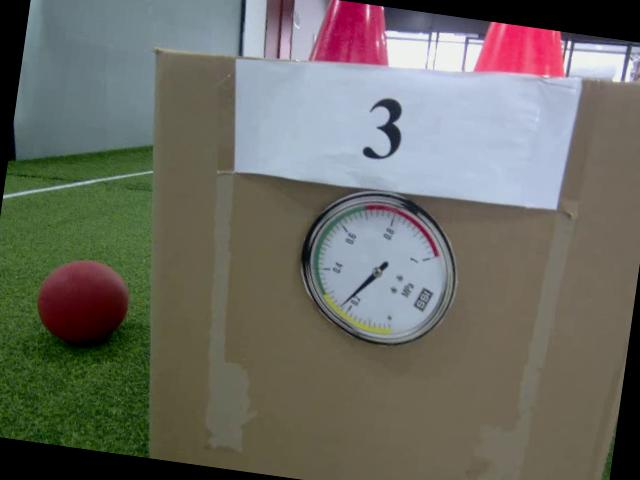3: (356, 94, 415, 168)
Dashboard: (288, 182, 466, 353)
orange_barrel: (471, 20, 574, 80)
red_ball: (32, 257, 132, 350)
red_barrel: (309, 0, 399, 68)
ssi: (412, 286, 434, 314)
